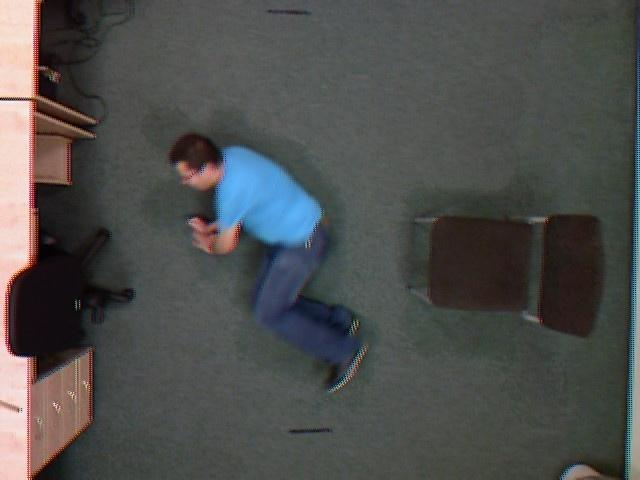fall: (171, 129, 369, 401)
